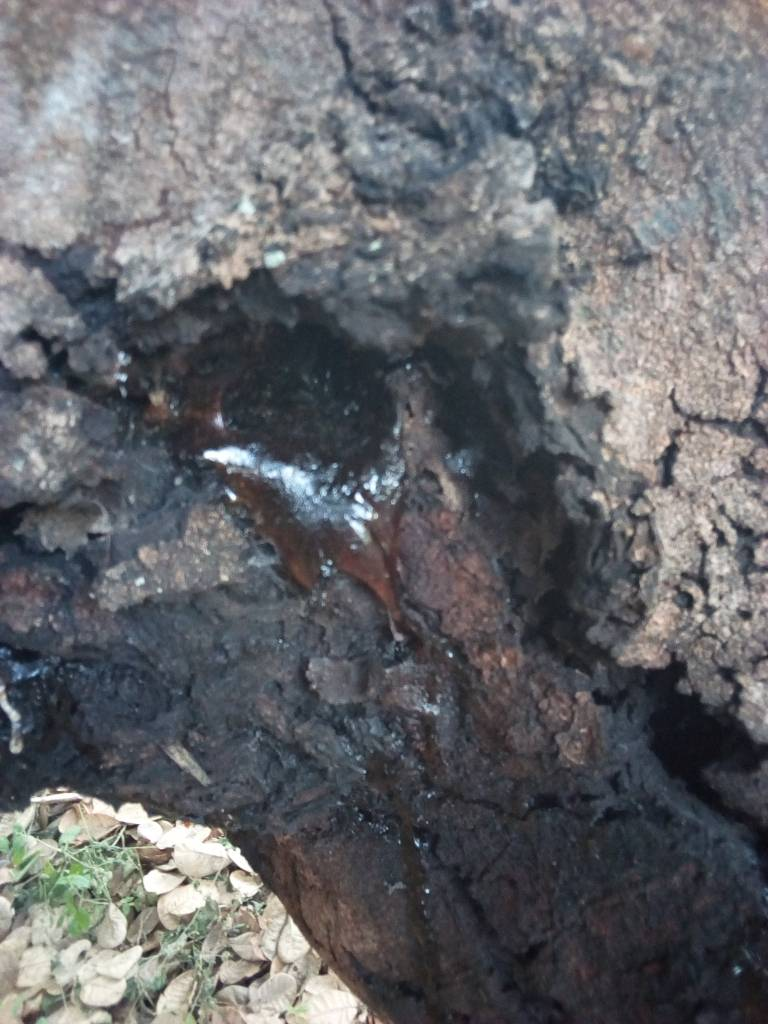Gommose: (82, 300, 736, 983)
